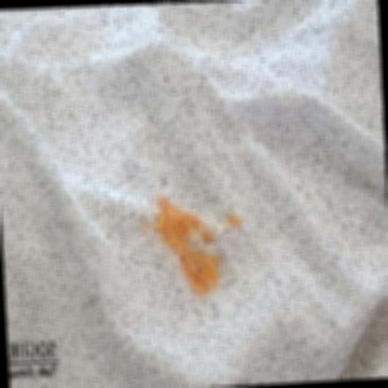kimchi: (135, 192, 226, 304), (227, 204, 245, 235)
